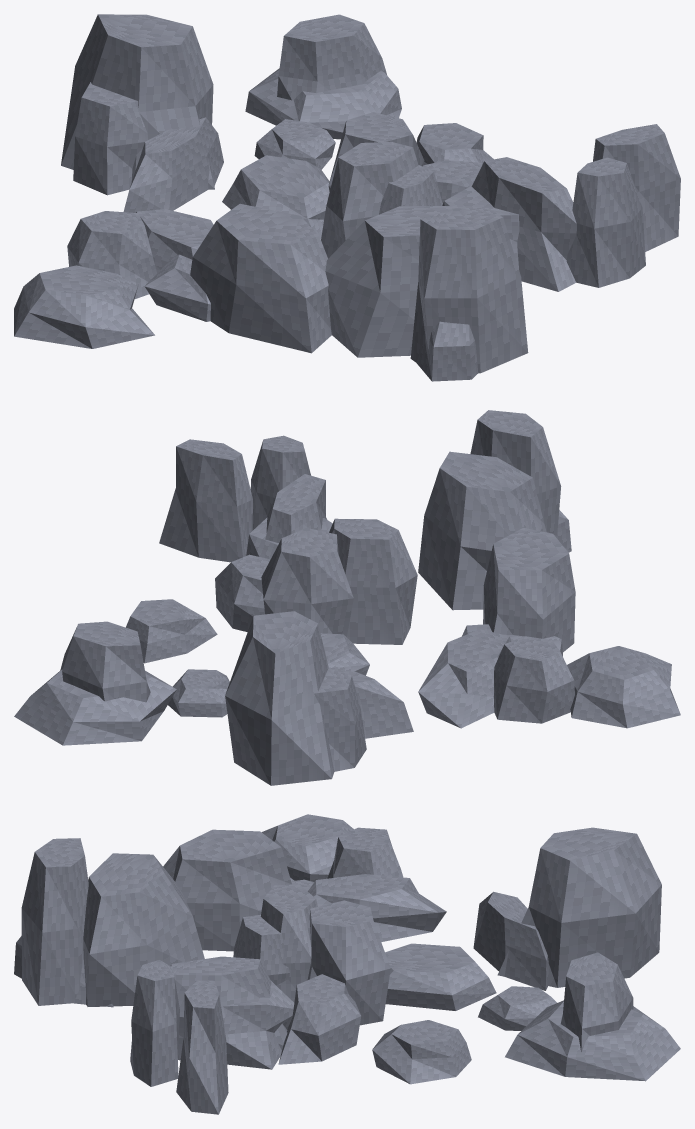
Rendered from cave-and-crystal-networks-rubble-scatter-938764bf.glb.
3 views of the same model, one above another, from view 1: azimuth 30°, elevation 25°; view 2: azimuth 150°, elevation 25°; view 3: azimuth 270°, elevation 25° (orthographic). The views are drawn at different scales.
Visible parts, largest first — view 1: rubble-scatter; view 2: rubble-scatter; view 3: rubble-scatter.
Boxes of the visible parts, left/top/right/bottom form: rubble-scatter: left=14, top=14, right=680, bottom=381; rubble-scatter: left=14, top=410, right=680, bottom=785; rubble-scatter: left=14, top=814, right=680, bottom=1114.
Size of the model in its own units: 2.74 by 0.5968 by 2.8.
Materials: 1 (1 with a texture image).
